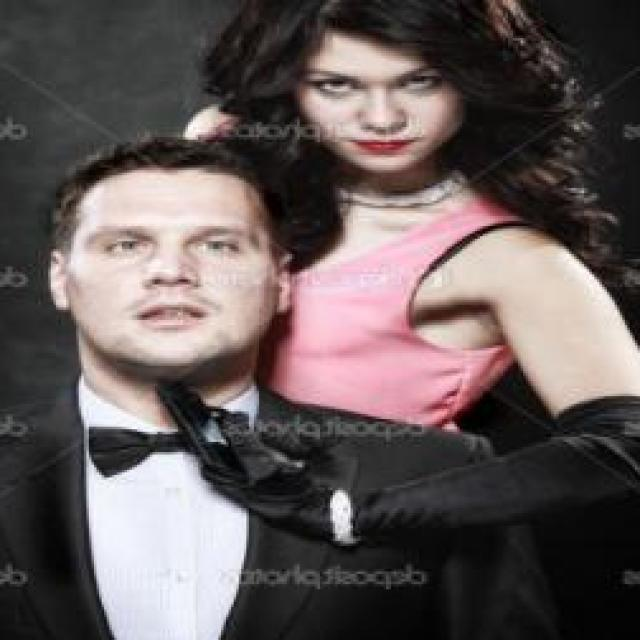pistol: (145, 376, 330, 509)
